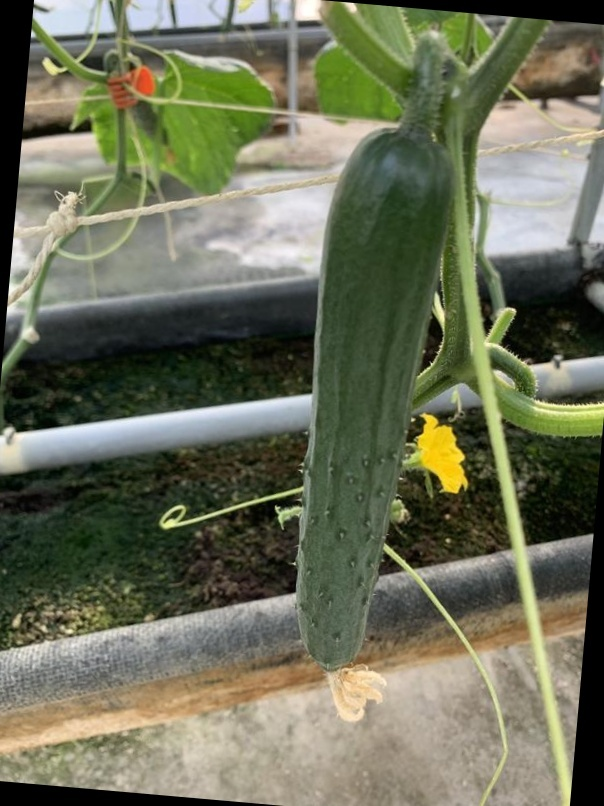mature: (286, 146, 458, 670)
